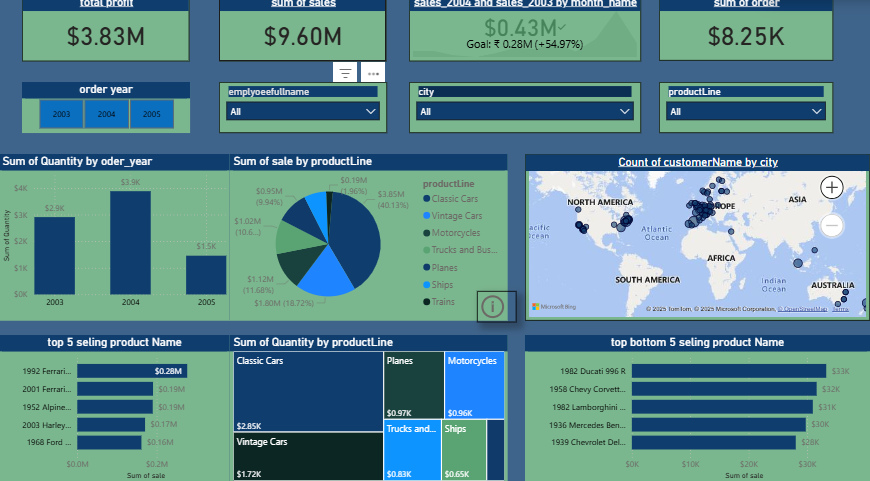

The dashboard page shown, as its layout file describes it:
{"tool":"powerbi","page":{"name":"Page 1","canvas":[1280,720],"ordinal":0},"visuals":[{"type":"card","title":"sum of sales","fields":{"Values":["Sum(orderdetails.sale)"]},"box":[322.7,0,246.5,98.6],"z":0},{"type":"barChart","title":"top 5 seling product Name","fields":{"Category":["productss.productName"],"Y":["Sum(orderdetails.sale)"]},"box":[0,501.1,339.4,217.5],"z":1000},{"type":"pieChart","fields":{"Category":["productss.productLine"],"Y":["Sum(orderdetails.sale)"]},"box":[339.4,235.1,408.5,245.4],"z":2000},{"type":"card","title":"sum of order","fields":{"Values":["Sum(orderdetails.Quantity)"]},"box":[969.8,0,255.7,98.4],"z":3000},{"type":"kpi","fields":{"TrendLine":["orders.month_name"],"Indicator":["orders.sales_2004"],"Goal":["orders.sales_2003"]},"box":[602,0,340.6,98.6],"z":4000},{"type":"map","fields":{"Category":["customer.city"],"Size":["CountNonNull(customer.customerName)"]},"box":[772.9,235.1,506.9,245.4],"z":5000},{"type":"treemap","fields":{"Values":["Sum(orderdetails.Quantity)"],"Details":["productline.productLine"]},"box":[339.4,501.1,408.5,218.9],"z":6000},{"type":"columnChart","fields":{"Category":["orders.oder_year"],"Y":["Sum(orderdetails.Quantity)"]},"box":[0,235.1,339.4,245.4],"z":7000},{"type":"card","title":"total profit","fields":{"Values":["Sum(orderdetails.profit)"]},"box":[34.4,0,246.5,98.6],"z":8000},{"type":"barChart","title":"top  bottom 5 seling product Name","fields":{"Category":["productss.productName"],"Y":["Sum(orderdetails.sale)"]},"box":[772.9,501.1,506.9,217.5],"z":9000},{"type":"slicer","title":"order year","fields":{"Values":["orders.oder_year"]},"box":[33.8,129.3,246.9,74.9],"z":10000},{"type":"slicer","fields":{"Values":["emplyoee.emplyoeefullname"]},"box":[323.3,129.3,246.9,74.9],"z":11000},{"type":"slicer","fields":{"Values":["customer.city"]},"box":[602.4,129.3,340.9,74.9],"z":12000},{"type":"slicer","fields":{"Values":["productss.productLine"]},"box":[969.8,129.3,255.7,74.9],"z":13000},{"type":"actionButton","box":[702.4,435.8,58.1,46.1],"z":14000}]}

Visuals, with their boxes in screenshot pixels (x1, y1, x2, y2), scaled from the page's 1280x720 canvas onto the 870x481 screenshot:
"sum of sales" card: bbox=(219, 0, 387, 66)
"top 5 seling product Name" barChart: bbox=(0, 335, 231, 480)
pieChart - productss.productLine x Sum(orderdetails.sale): bbox=(231, 157, 508, 321)
"sum of order" card: bbox=(659, 0, 833, 66)
kpi - orders.month_name x orders.sales_2004: bbox=(409, 0, 641, 66)
map - customer.city x CountNonNull(customer.customerName): bbox=(525, 157, 869, 321)
treemap - Sum(orderdetails.Quantity) x productline.productLine: bbox=(231, 335, 508, 480)
columnChart - orders.oder_year x Sum(orderdetails.Quantity): bbox=(0, 157, 231, 321)
"total profit" card: bbox=(23, 0, 191, 66)
"top  bottom 5 seling product Name" barChart: bbox=(525, 335, 869, 480)
"order year" slicer: bbox=(23, 86, 191, 136)
slicer - emplyoee.emplyoeefullname: bbox=(220, 86, 388, 136)
slicer - customer.city: bbox=(409, 86, 641, 136)
slicer - productss.productLine: bbox=(659, 86, 833, 136)
actionButton: bbox=(477, 291, 517, 322)
